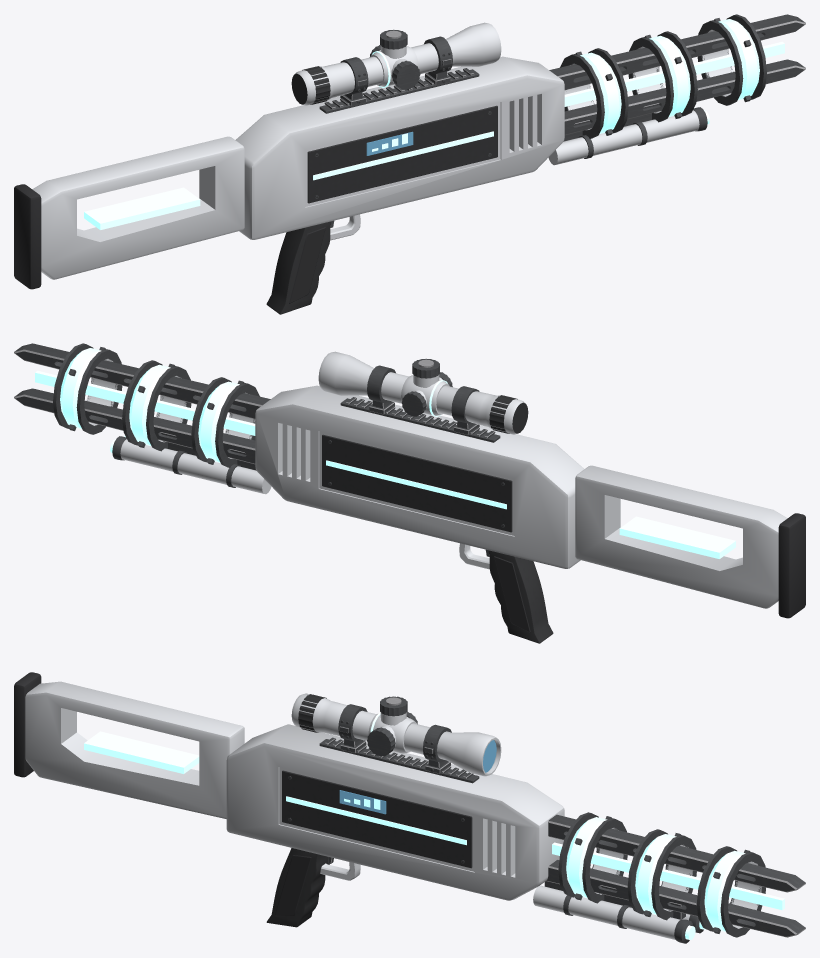
File: w_rail.glb
3 renders of one model, top to bottom at view 1: azimuth 30°, elevation 25°; view 2: azimuth 150°, elevation 25°; view 3: azimuth 330°, elevation 25°, orthographic.
Parts seen in each view (by area): view 1: W_rail; view 2: W_rail; view 3: W_rail.
Part boxes in pixels (x1,y1,x2,y2): W_rail: (14,14,805,314); W_rail: (14,343,805,643); W_rail: (14,672,805,943).
Bounding box in the file's own units: 1.02 × 0.3066 × 0.098.
7 materials, 3 textured.
